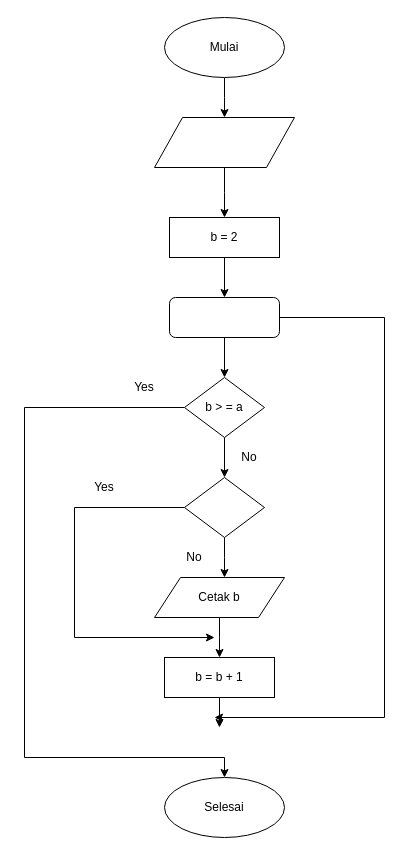
Some shapes in this 410 by 855 pixel diagram are drawn without their labels. The centre of each missing label's shape, as x and y in pixels:
(a%b) ! = 0: (x=224, y=507)
Input a: (x=224, y=142)
Loop: (x=224, y=317)
